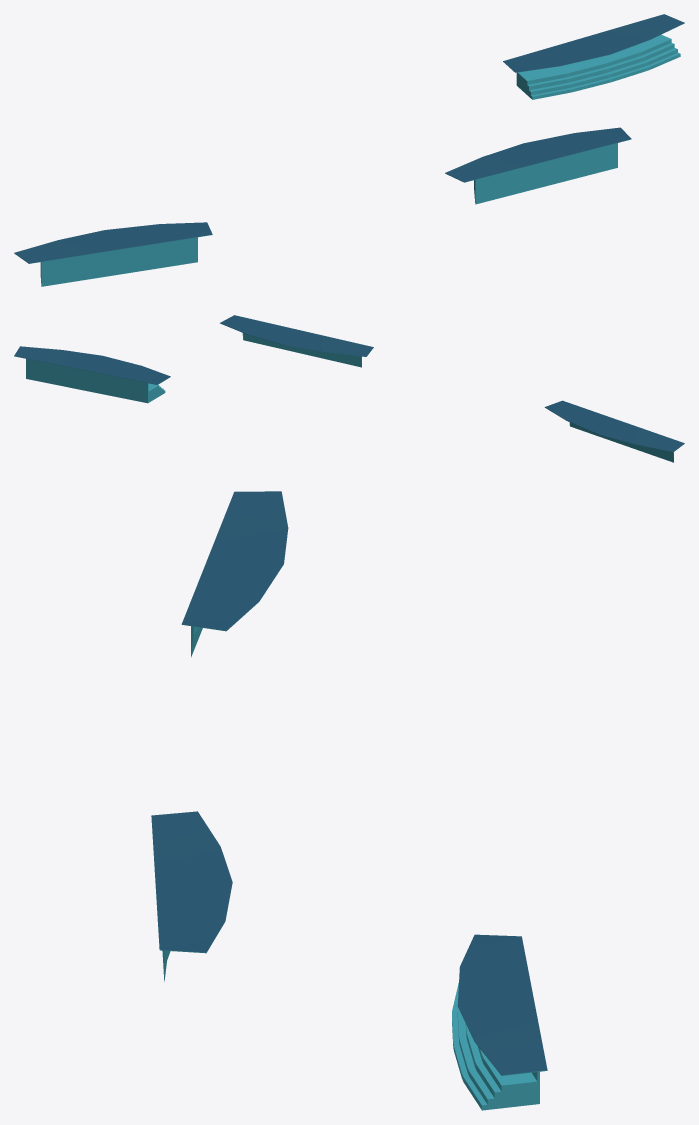
The model's file is Race_LV3.FBX.
3 renders of one model, top to bottom at view 1: azimuth 30°, elevation 25°; view 2: azimuth 150°, elevation 25°; view 3: azimuth 270°, elevation 25°, orthographic. The views are drawn at different scales.
Visible parts, largest first — view 1: Race; view 2: Race; view 3: Race.
Boxes of the visible parts, x1,y1,x2,y2 form: Race: (14,14,684,286); Race: (14,315,684,462); Race: (151,491,547,1110).
Bounding box in the file's own units: 159 × 5.54 × 45.63.
